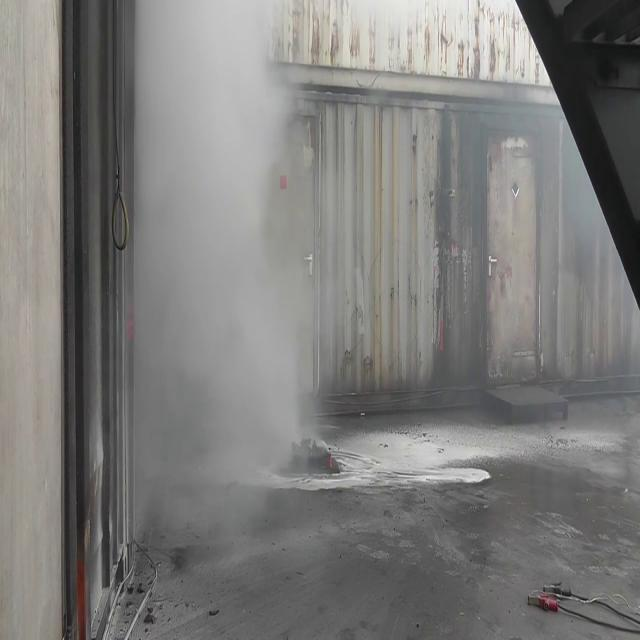Smoke: (134, 2, 323, 610)
